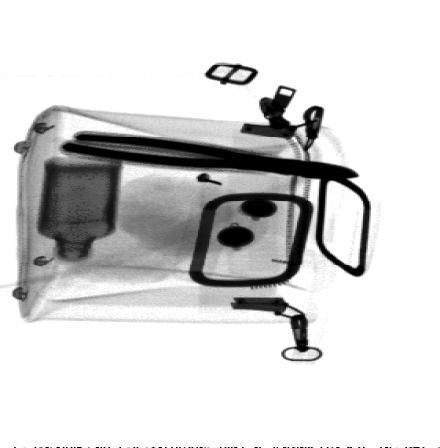Pliers: (59, 130, 361, 181)
